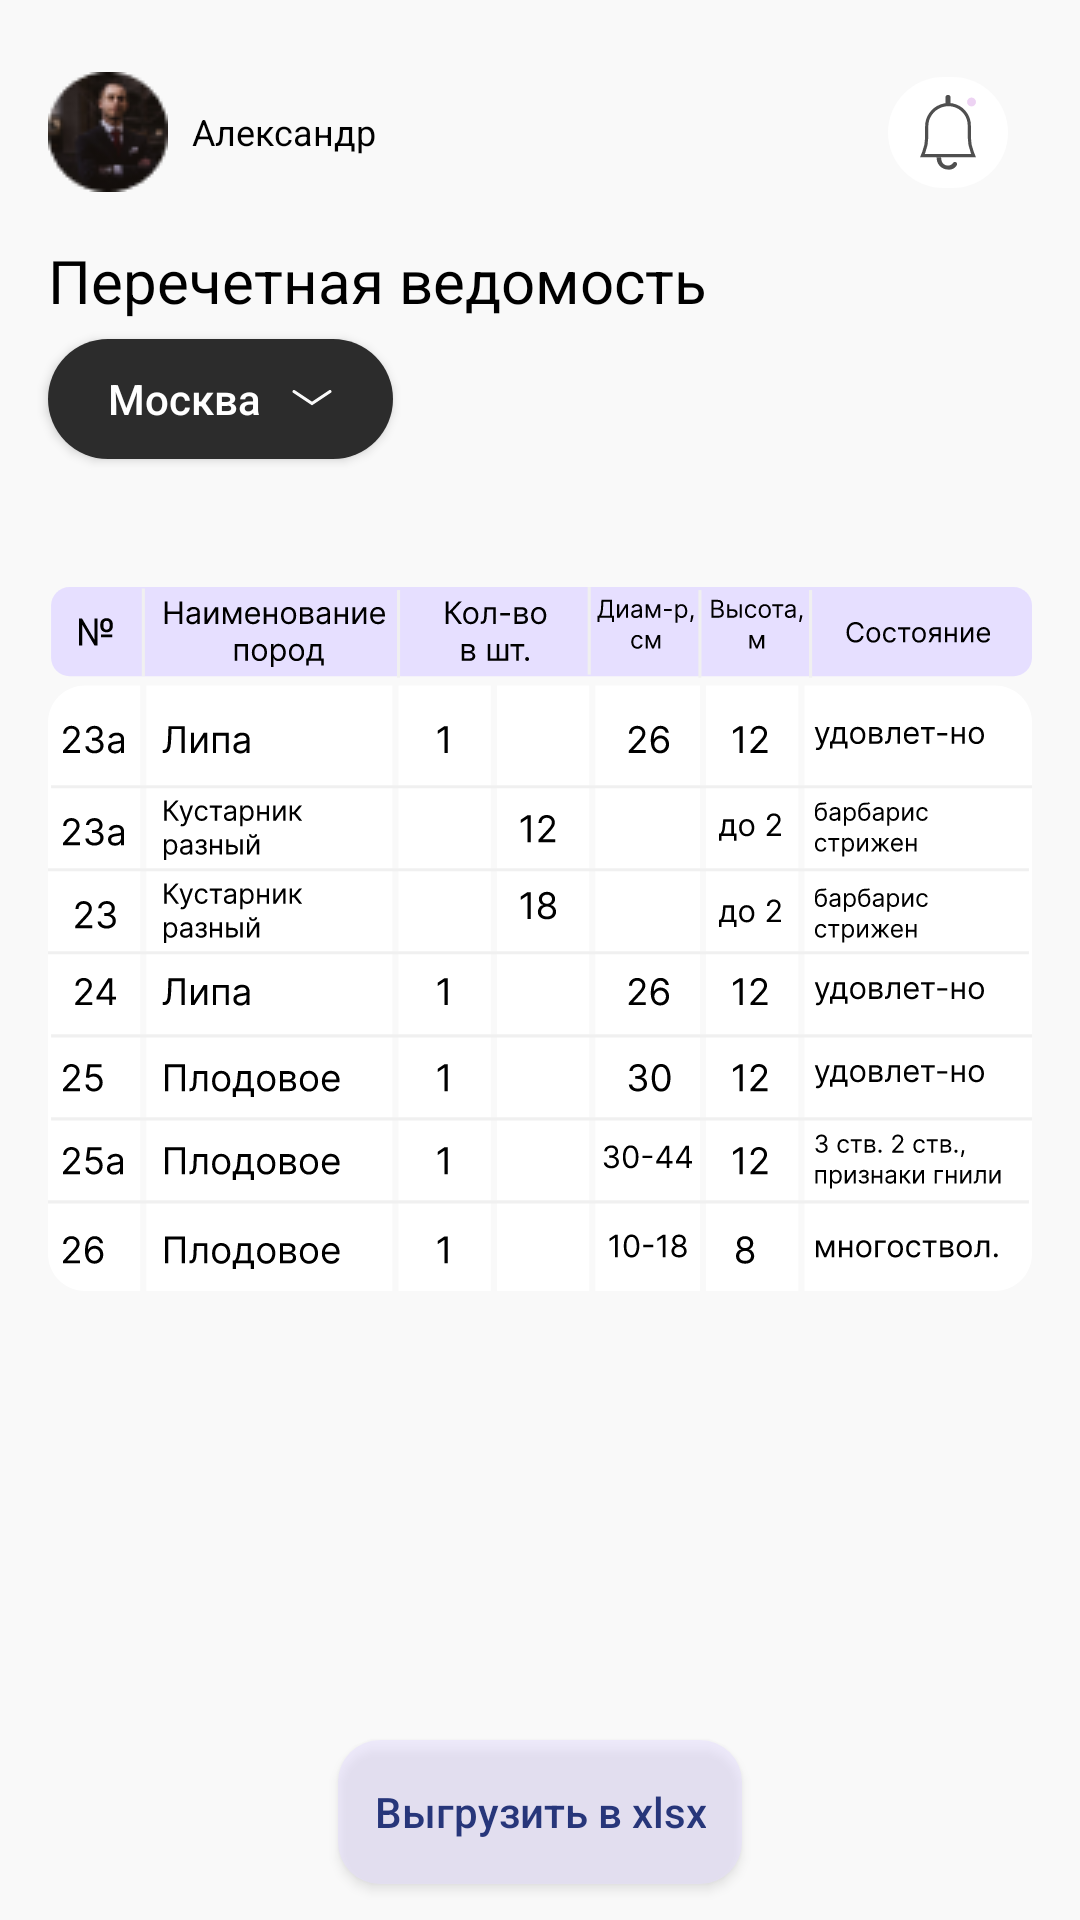

Icon bounding boxes for this 1080px×1920px phone screenshot, format (x1, y1, x2, y2):
notifications: (920, 95, 976, 170)
